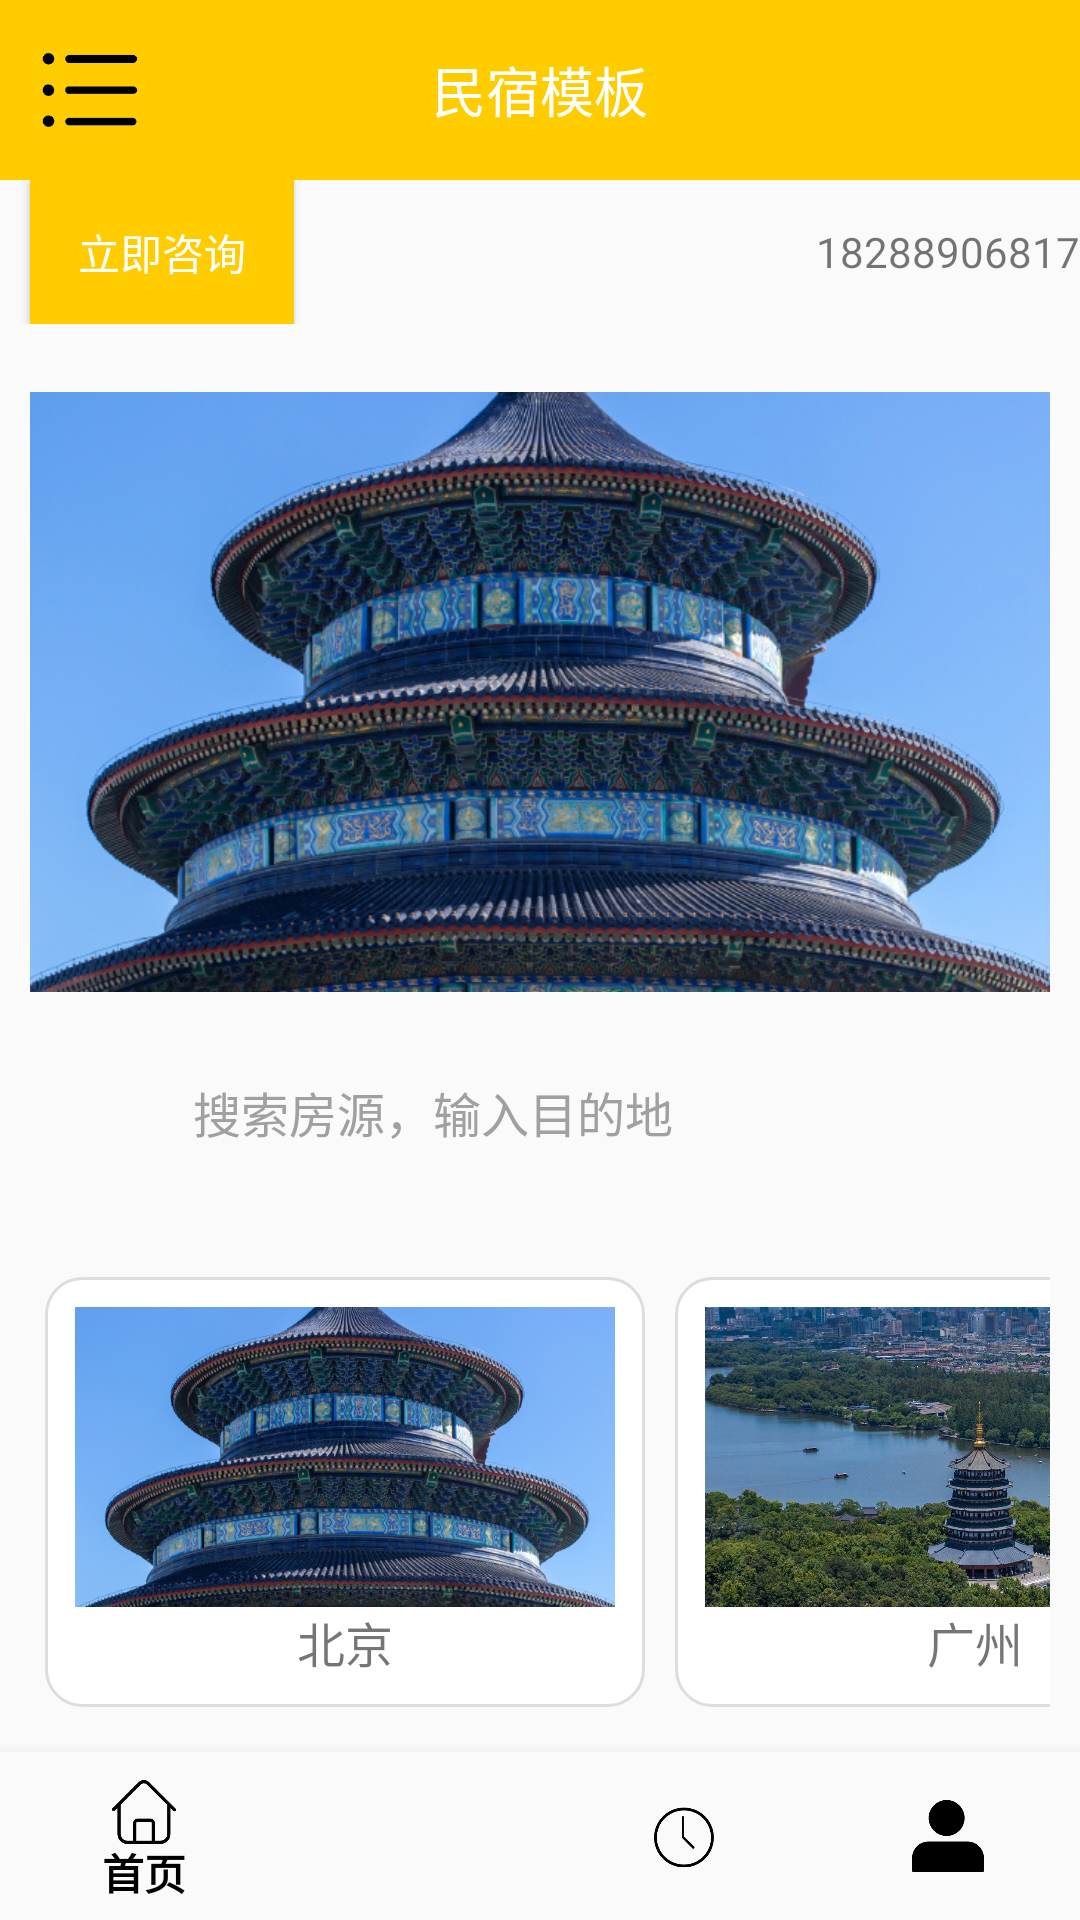

Icons on this 1080x1920 Android screen, each with its box as box(x1, y1, x2, y2):
menu: box(42, 53, 138, 127)
